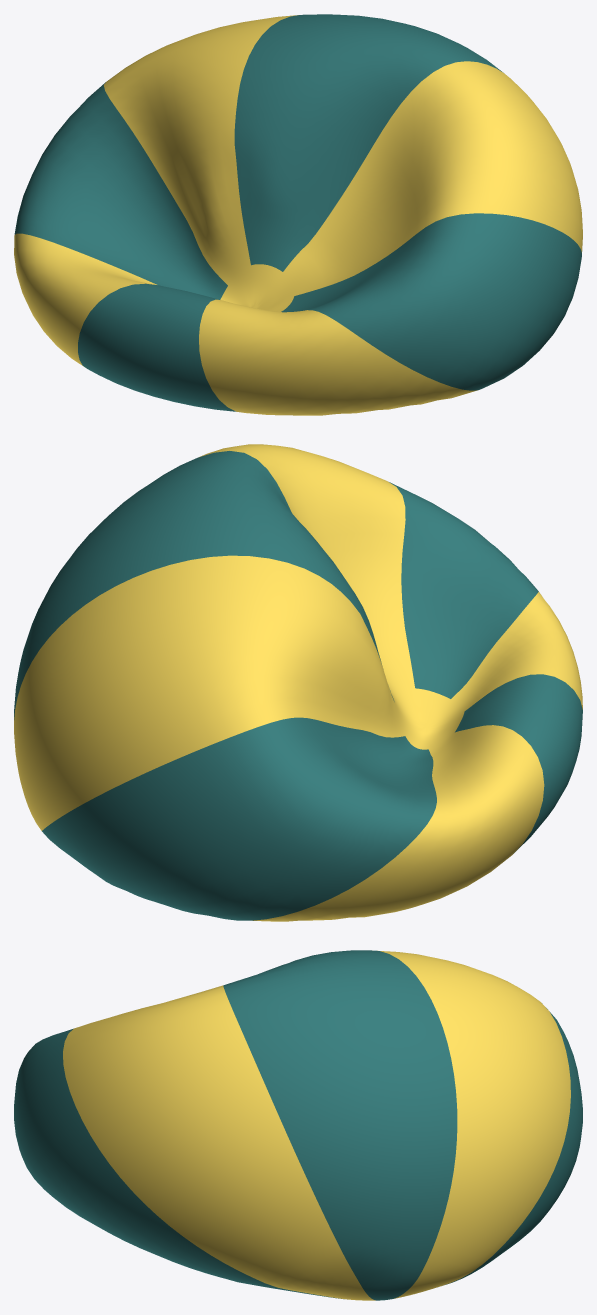
Rendered from ball.gltf.
3 views of the same model, one above another, from view 1: azimuth 30°, elevation 25°; view 2: azimuth 150°, elevation 25°; view 3: azimuth 270°, elevation 25° (orthographic). The views are drawn at different scales.
Parts seen in each view (by area): view 1: ball; view 2: ball; view 3: ball.
Boxes of the visible parts, <box> form: ball: <box>14,14,582,415</box>; ball: <box>14,444,582,921</box>; ball: <box>14,950,582,1300</box>.
Size of the model in its own units: 0.1938 by 0.1218 by 0.2202.
